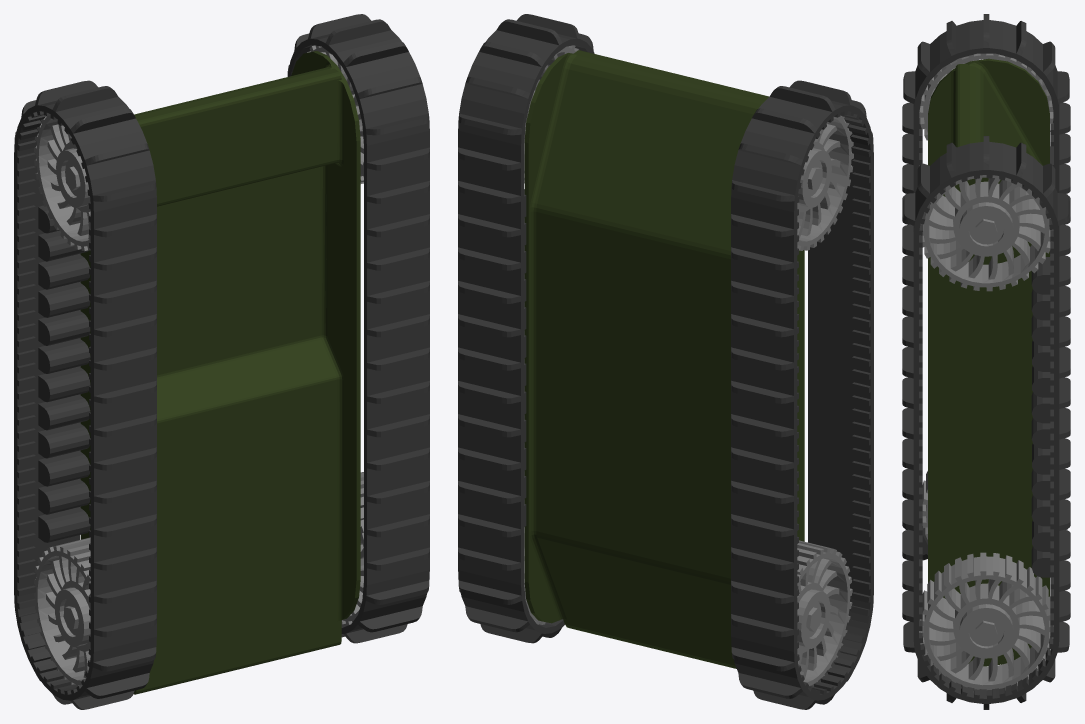
File: base_linkV4.dae
3 views of the same model, side by side, from view 1: azimuth 30°, elevation 25°; view 2: azimuth 150°, elevation 25°; view 3: azimuth 270°, elevation 25° (orthographic). The views are drawn at different scales.
Visible parts, largest first — view 1: node; view 2: node; view 3: node.
Part boxes in pixels (box(x1,y1,x2,y2)): node: box(14, 14, 429, 709); node: box(458, 14, 873, 709); node: box(902, 14, 1070, 709).
Bounding box in the file's own units: 0.4001 × 0.6899 × 0.19.
